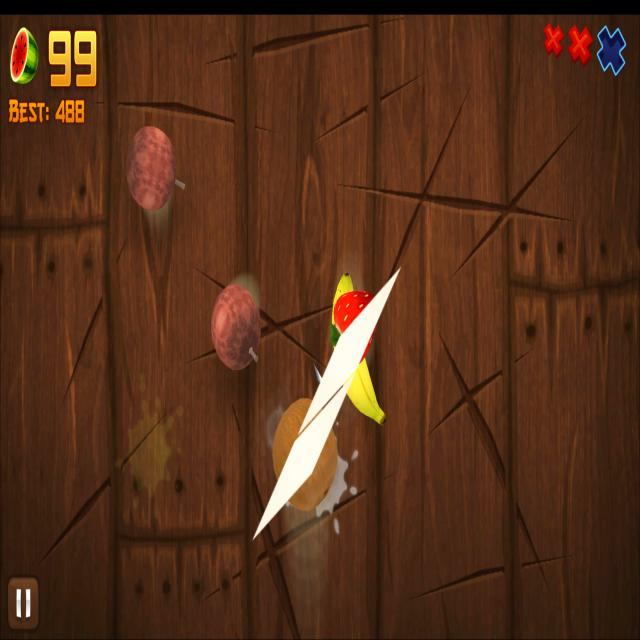fruit: (332, 273, 388, 426), (273, 397, 337, 512), (126, 126, 184, 211), (212, 283, 260, 370), (335, 289, 377, 364)
